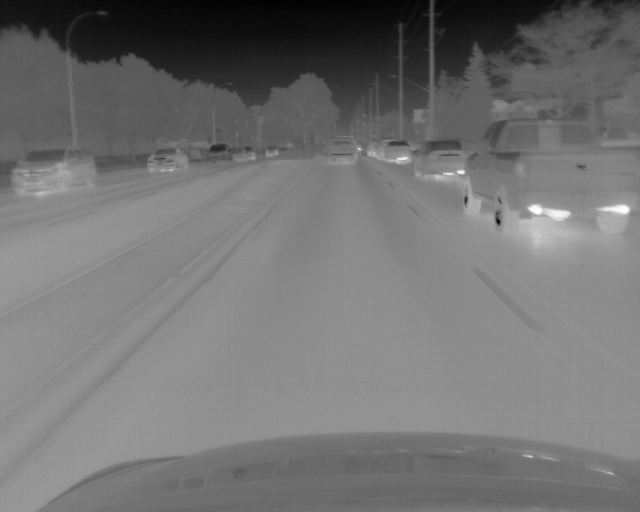car: (461, 118, 637, 235), (10, 147, 95, 194), (410, 140, 467, 180), (146, 148, 188, 172), (327, 139, 356, 164), (384, 140, 411, 163), (206, 143, 230, 163), (377, 138, 393, 161), (232, 146, 256, 161), (366, 139, 377, 156), (265, 146, 278, 157)
